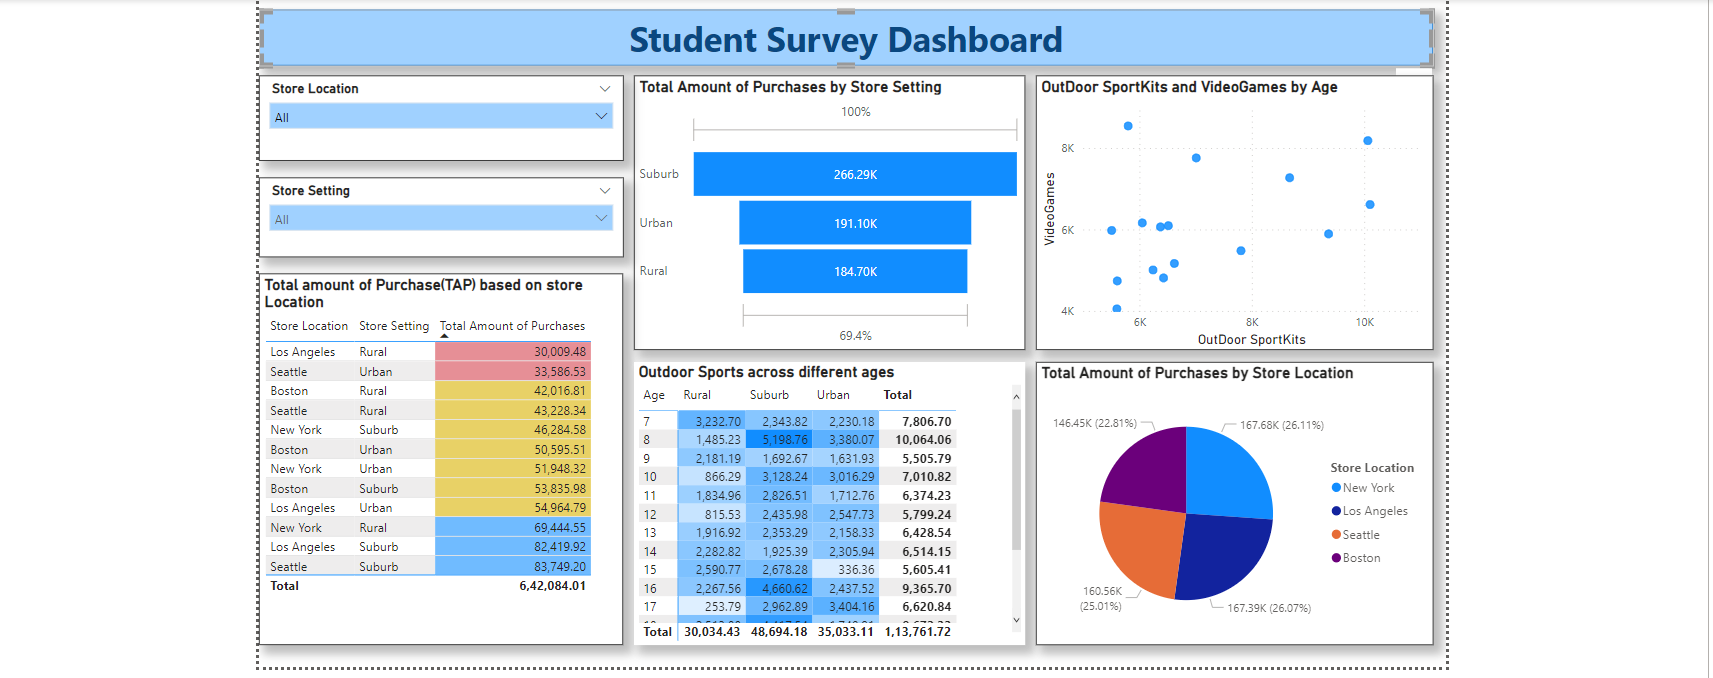

The dashboard page shown, as its layout file describes it:
{"tool":"powerbi","page":{"name":"Survey dashboard ","canvas":[1280,720],"ordinal":0},"visuals":[{"type":"shape","box":[0,11.5,1266.9,60.8],"z":0},{"type":"funnel","fields":{"Y":["Sum(Student Survey.Total Amount of Purchases)"],"Category":["Student Survey.Store Setting"]},"box":[404.2,82.2,422.3,295.8],"z":1000},{"type":"scatterChart","fields":{"X":["Sum(Student Survey.OutDoor SportKits)"],"Y":["Sum(Student Survey.VideoGames)"],"Category":["Student Survey.Age"]},"box":[838,82.2,428.9,295.8],"z":2000},{"type":"slicer","fields":{"Values":["Student Survey.Store Location"]},"box":[0,82.5,393.2,92.2],"z":3000},{"type":"slicer","fields":{"Values":["Student Survey.Store Setting"]},"box":[0,192.5,393.2,85.8],"z":4000},{"type":"tableEx","title":"Total amount of Purchase(TAP) based on store Location ","fields":{"Values":["Student Survey.Store Location","Student Survey.Store Setting","Sum(Student Survey.Total Amount of Purchases)"]},"box":[0,295.8,392.7,400.9],"z":5000},{"type":"pivotTable","title":"Outdoor Sports across different ages","fields":{"Columns":["Student Survey.Store Setting"],"Rows":["Student Survey.Age"],"Values":["Sum(Student Survey.OutDoor SportKits)"]},"box":[404.2,391.1,422.3,305.6],"z":6000},{"type":"pieChart","fields":{"Y":["Sum(Student Survey.Total Amount of Purchases)"],"Category":["Student Survey.Store Location"]},"box":[838,391.1,428.9,305.6],"z":7000}]}

Visuals, with their boxes in screenshot pixels (x1, y1, x2, y2):
shape: x1=250, y1=20, x2=1426, y2=76
funnel - Sum(Student Survey.Total Amount of Purchases) x Student Survey.Store Setting: x1=625, y1=85, x2=1017, y2=360
scatterChart - Sum(Student Survey.OutDoor SportKits) x Sum(Student Survey.VideoGames): x1=1028, y1=85, x2=1426, y2=360
slicer - Student Survey.Store Location: x1=250, y1=86, x2=615, y2=171
slicer - Student Survey.Store Setting: x1=250, y1=188, x2=615, y2=267
"Total amount of Purchase(TAP) based on store Location " tableEx: x1=250, y1=284, x2=615, y2=656
"Outdoor Sports across different ages" pivotTable: x1=625, y1=372, x2=1017, y2=656
pieChart - Sum(Student Survey.Total Amount of Purchases) x Student Survey.Store Location: x1=1028, y1=372, x2=1426, y2=656
